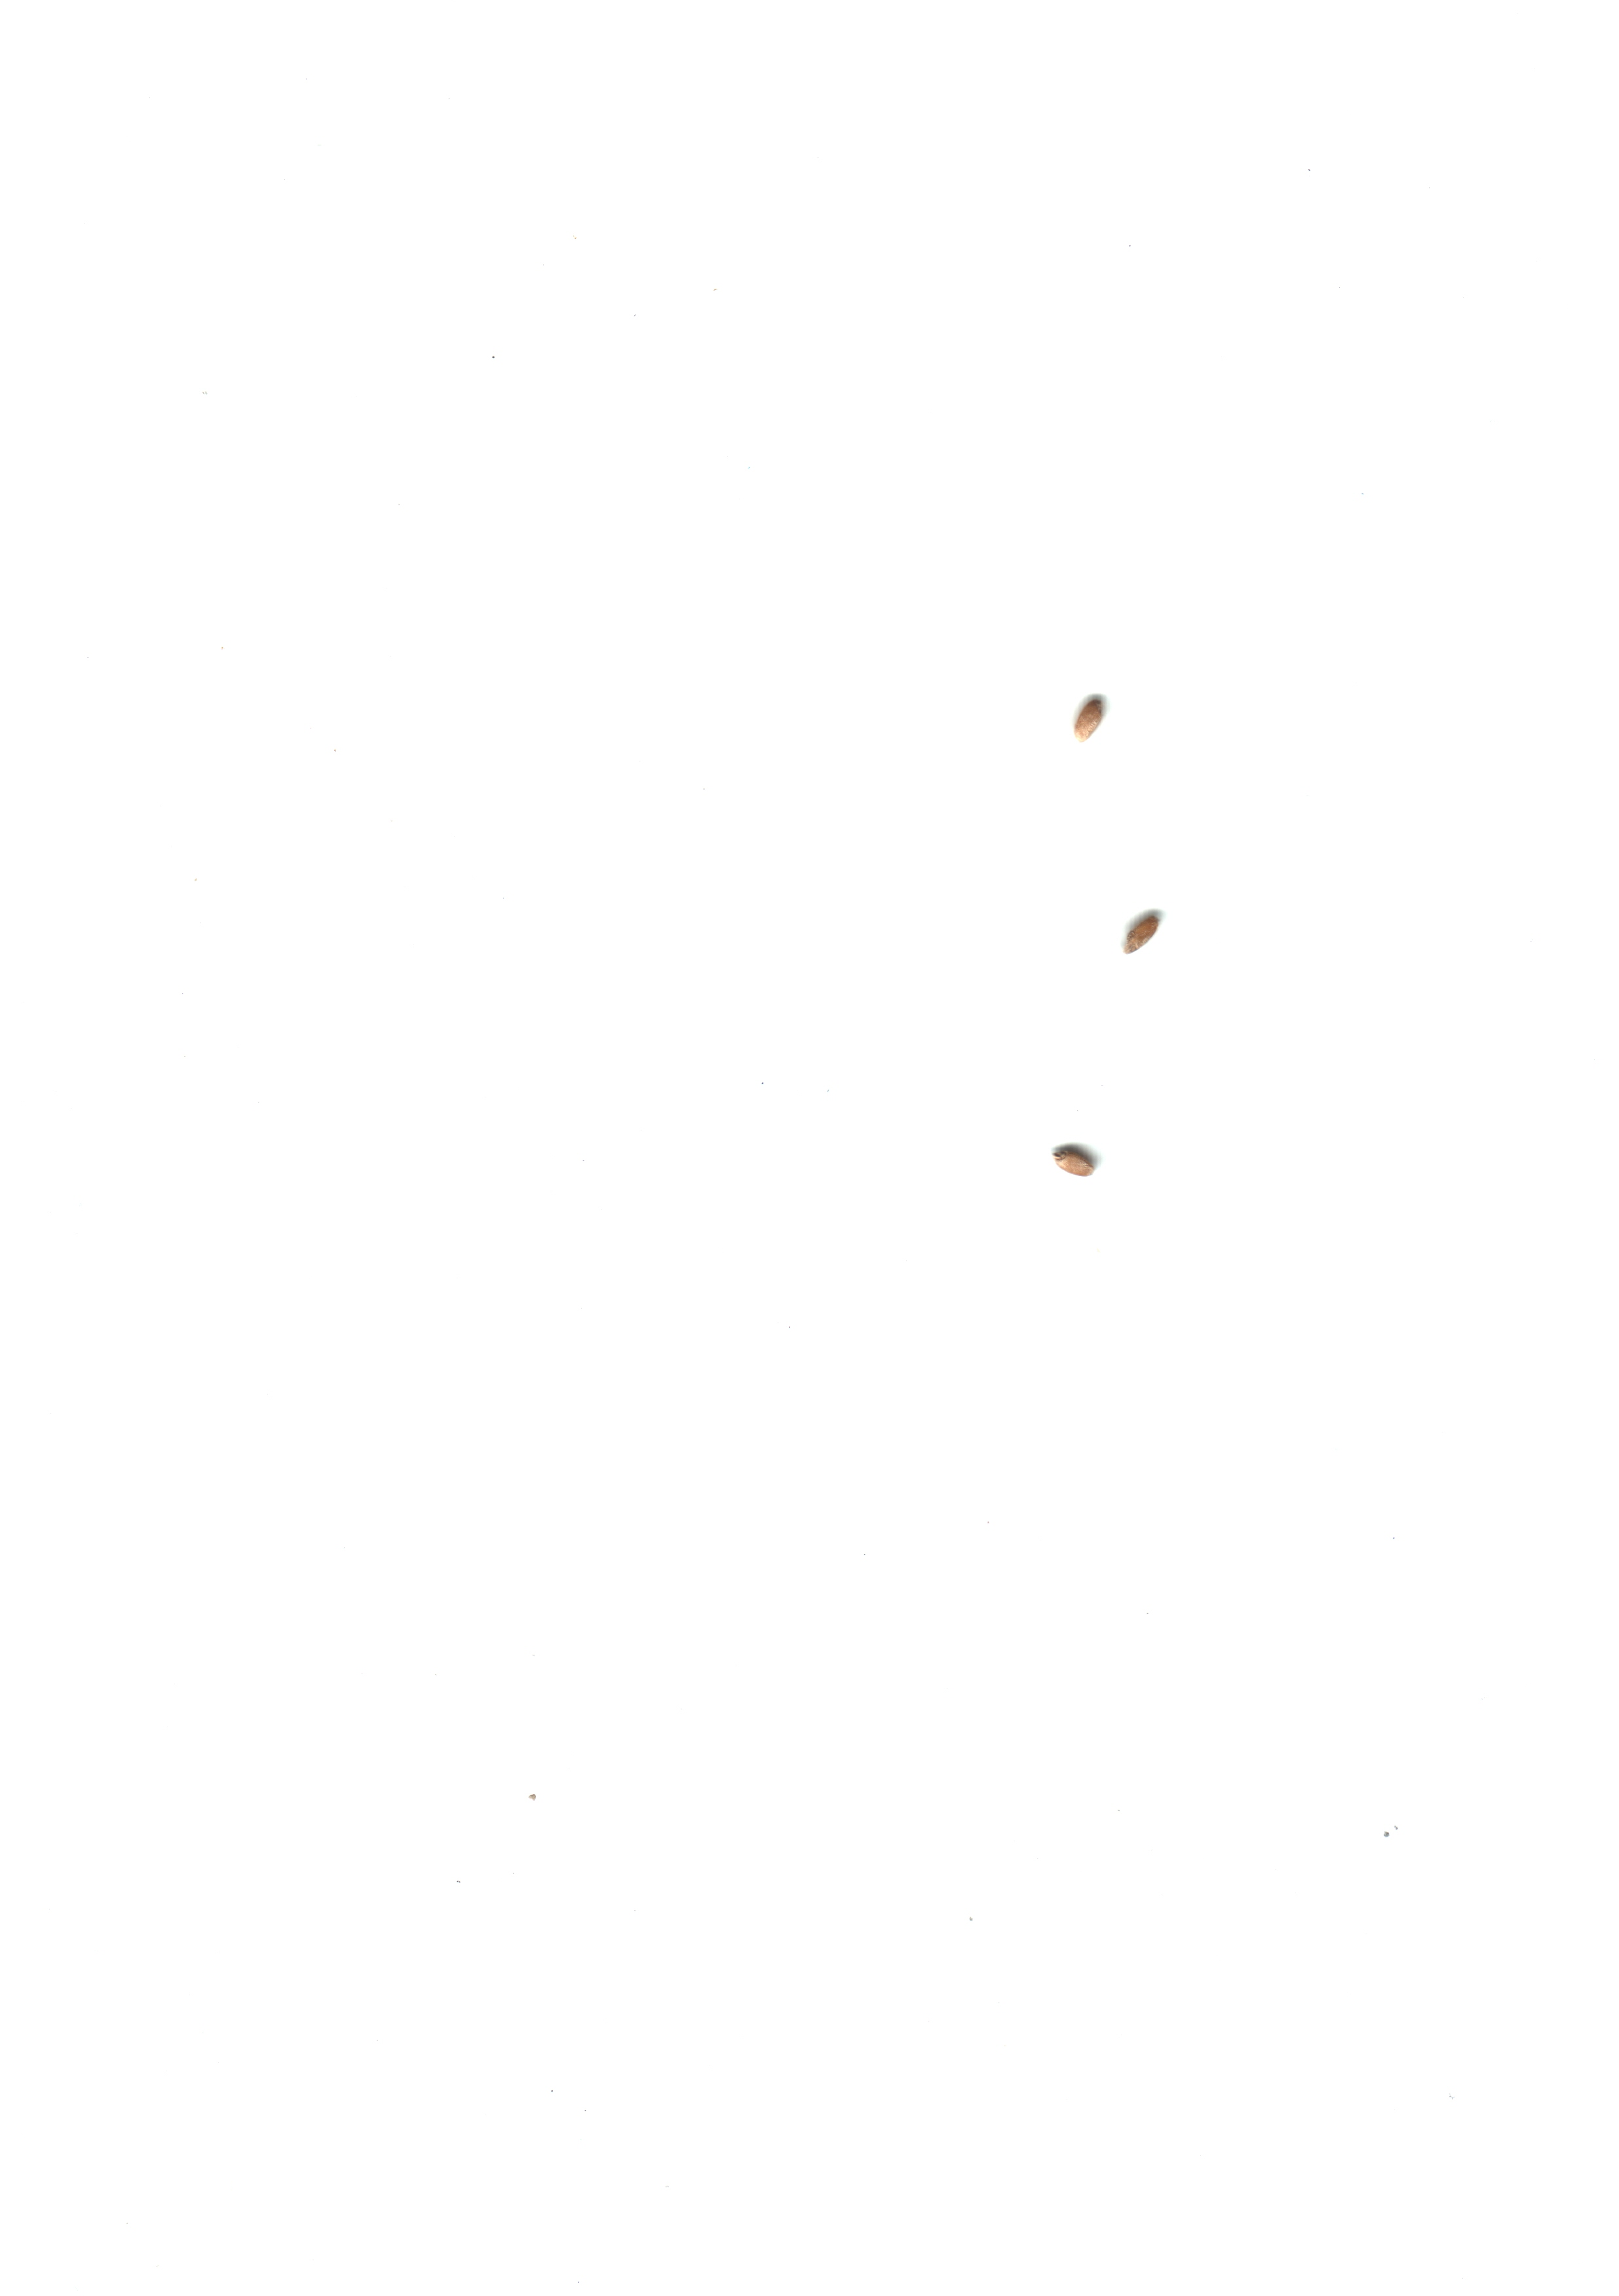grains_2_5mm: (1107, 887, 1190, 976), (1051, 677, 1134, 766), (1036, 1115, 1118, 1202)
